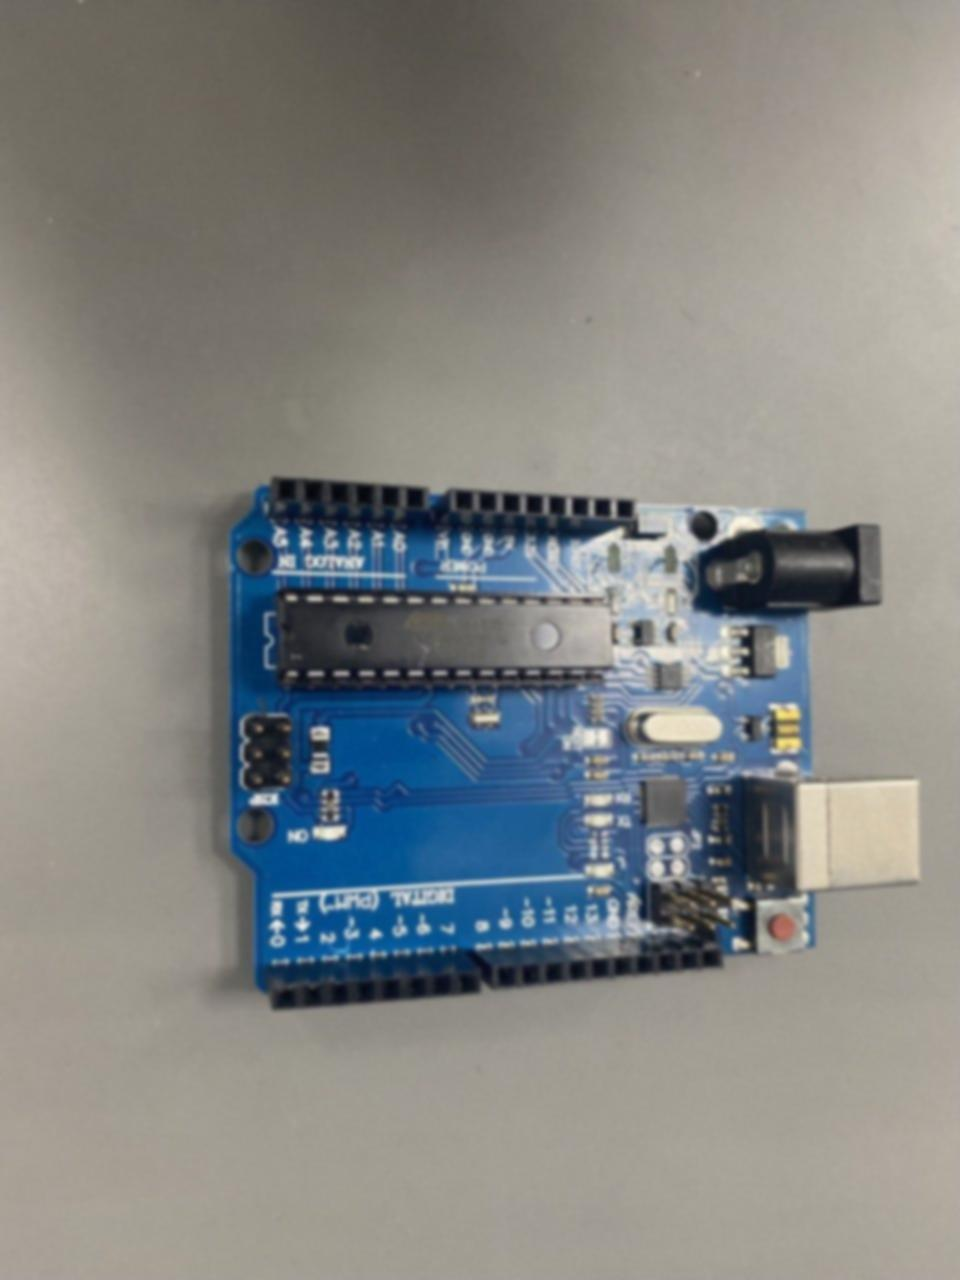ATmega328 chip: (277, 590, 613, 688)
Arduino board: (228, 474, 921, 1011)
USB: (746, 772, 920, 892)
pins: (472, 931, 724, 991), (264, 948, 481, 1012), (429, 487, 636, 537), (268, 475, 431, 530)
resistor: (321, 789, 340, 822), (711, 802, 728, 834), (588, 693, 605, 723)
